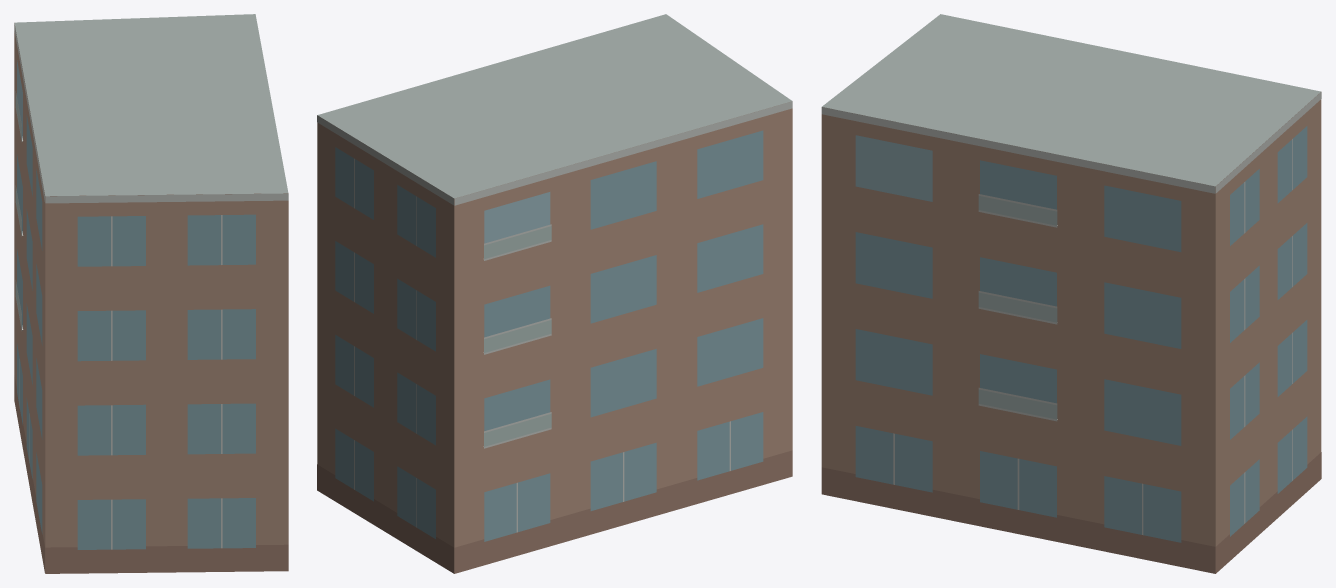
File: survey-upis-32636050.glb
3 views of the same model, side by side, from view 1: azimuth 30°, elevation 25°; view 2: azimuth 150°, elevation 25°; view 3: azimuth 270°, elevation 25° (orthographic). The views are drawn at different scales.
Parts seen in each view (by area): view 1: survey-upis-32636050.tmp; view 2: survey-upis-32636050.tmp; view 3: survey-upis-32636050.tmp.
Part boxes in pixels (bbox=[...]): survey-upis-32636050.tmp: bbox=[14, 14, 288, 573]; survey-upis-32636050.tmp: bbox=[317, 14, 792, 573]; survey-upis-32636050.tmp: bbox=[821, 14, 1321, 573].
Size of the model in its own units: 12.13 by 12.7 by 14.85.
